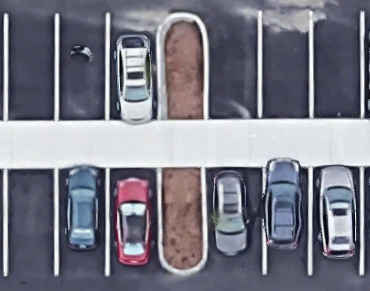Occupied: (203, 167, 264, 274), (56, 167, 108, 275), (107, 168, 159, 275), (311, 168, 363, 275), (108, 13, 158, 119), (264, 168, 310, 275)
Vacant: (207, 10, 261, 118), (5, 167, 57, 276), (260, 11, 312, 119), (311, 11, 363, 119), (6, 13, 57, 122), (57, 13, 108, 120)
